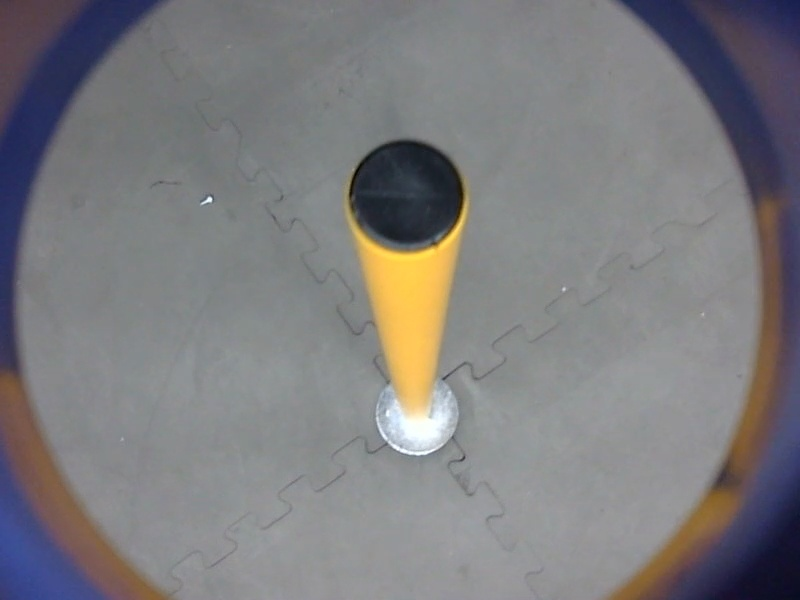tip: (341, 135, 473, 263)
